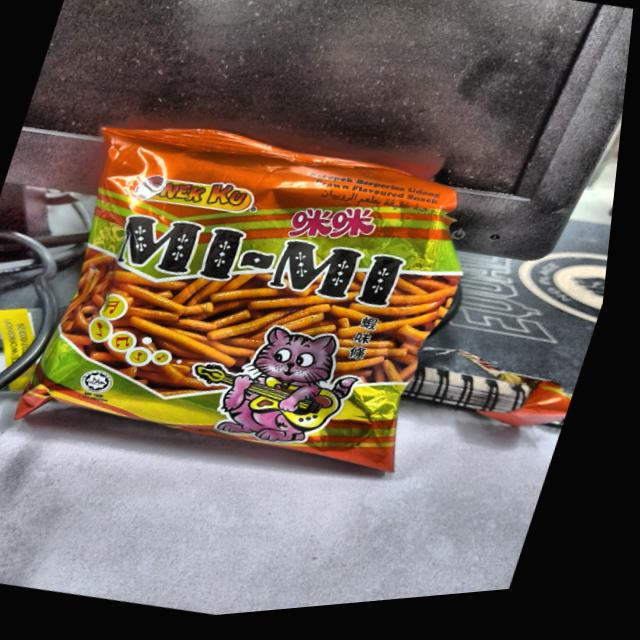Plastic: (4, 86, 526, 512)
